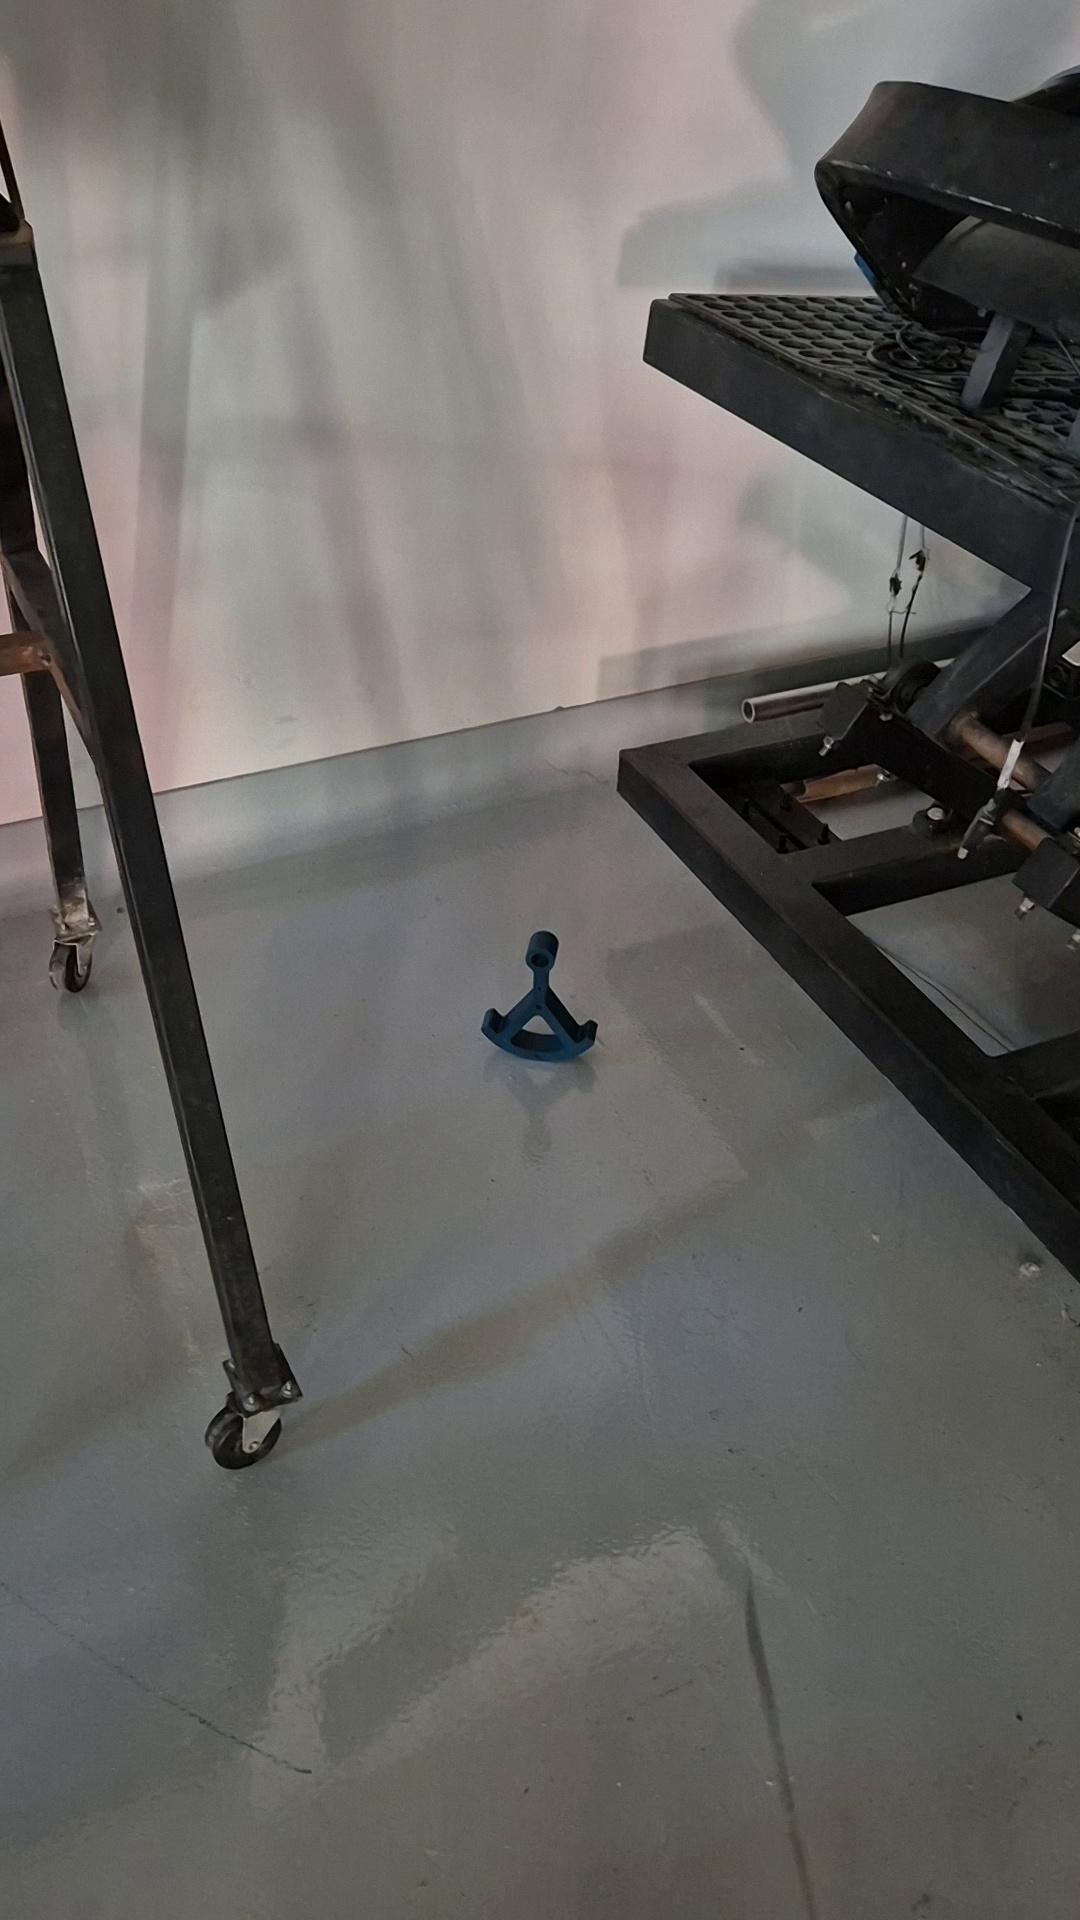Paddles: (479, 928, 600, 1063)
